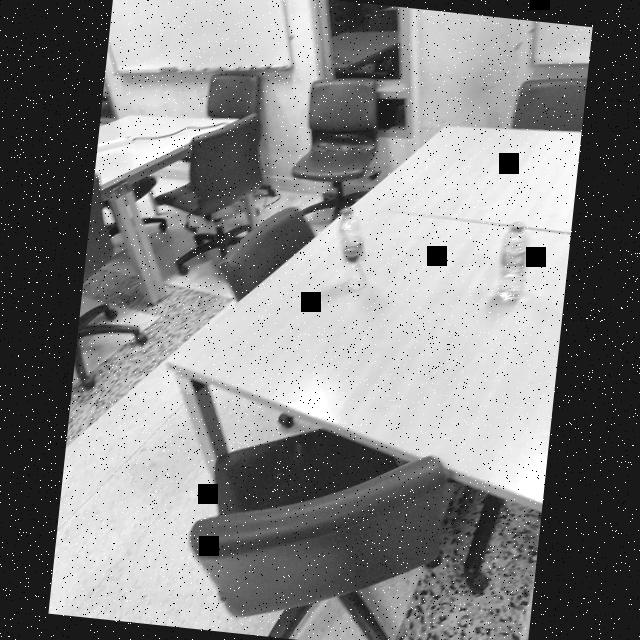plastic_bottle: (329, 203, 376, 295), (492, 218, 532, 310)
plastic_bottle_cap: (509, 220, 525, 232), (340, 205, 354, 218)
